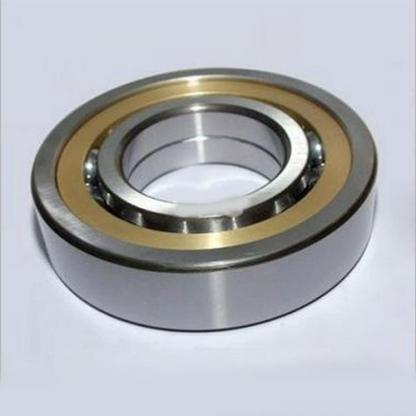FOD: (28, 63, 381, 337)
